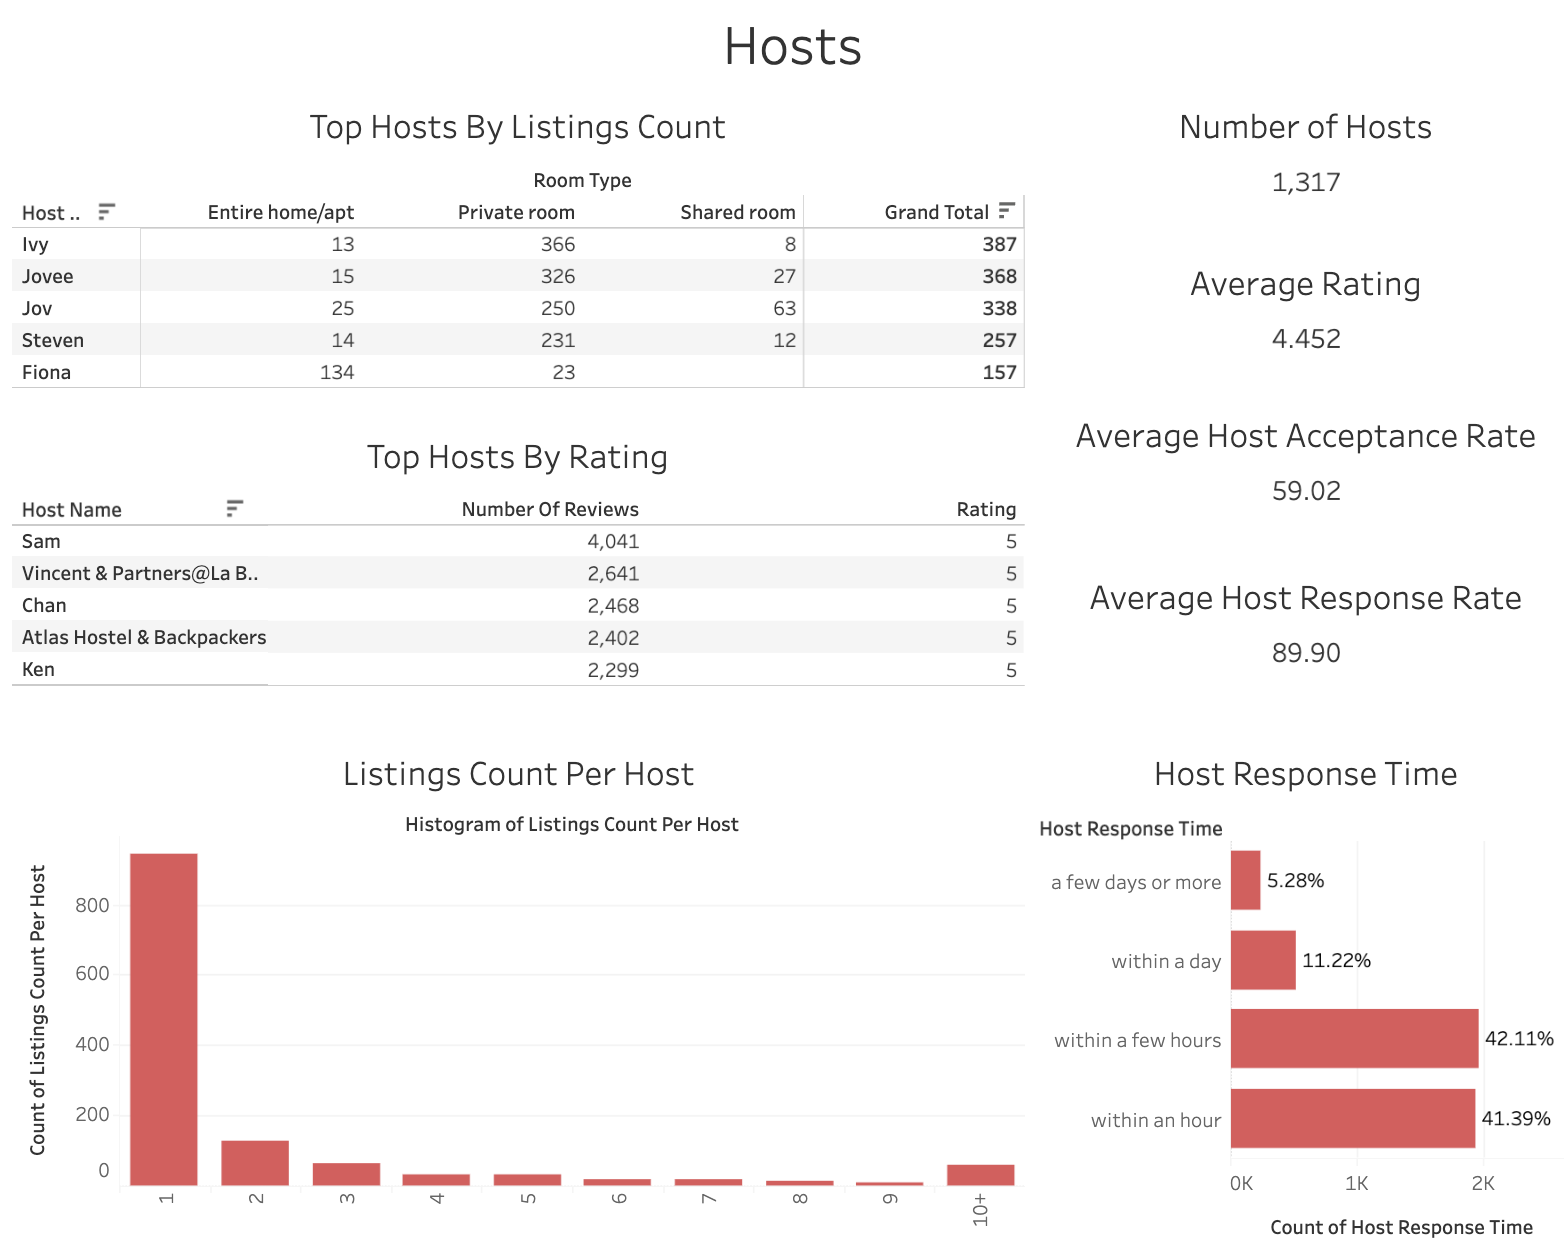

What the dashboard file says about the page in this screenshot:
{"tool":"tableau","page":{"name":"Hosts","canvas":[1000,800],"ordinal":0},"visuals":[{"type":"title","box":[8,8,984,53]},{"type":"worksheet","title":"Top Hosts By Listings Count","mark":"Automatic","rows":["host_name"],"cols":["room_type"],"box":[8,61,641,207]},{"type":"worksheet","title":"Number of Hosts","mark":"Automatic","box":[649,61,343,98]},{"type":"worksheet","title":"Average Rating","mark":"Automatic","box":[649,159,343,95]},{"type":"worksheet","title":"Average Host Acceptance Rate","mark":"Automatic","box":[649,254,343,101]},{"type":"worksheet","title":"Top Hosts By Rating","mark":"Automatic","rows":["host_name"],"box":[8,268,641,198]},{"type":"worksheet","title":"Average Host Response Rate","mark":"Automatic","box":[649,355,343,111]},{"type":"worksheet","title":"Listings Count Per Host","mark":"Automatic","rows":["Calculation_4270397657813553160"],"cols":["Calculation_4270397657816264714"],"box":[8,466,641,326]},{"type":"worksheet","title":"Host Response Time","mark":"Automatic","rows":["host_response_time"],"cols":["host_response_time"],"box":[649,466,343,326]}]}

Visuals, with their boxes in screenshot pixels (x1, y1, x2, y2), scaled from the page's 1000x800 canvas onto the 1564x1248 screenshot:
title: bbox=[13, 12, 1551, 95]
"Top Hosts By Listings Count" worksheet: bbox=[13, 95, 1015, 418]
"Number of Hosts" worksheet: bbox=[1015, 95, 1551, 248]
"Average Rating" worksheet: bbox=[1015, 248, 1551, 396]
"Average Host Acceptance Rate" worksheet: bbox=[1015, 396, 1551, 554]
"Top Hosts By Rating" worksheet: bbox=[13, 418, 1015, 727]
"Average Host Response Rate" worksheet: bbox=[1015, 554, 1551, 727]
"Listings Count Per Host" worksheet: bbox=[13, 727, 1015, 1236]
"Host Response Time" worksheet: bbox=[1015, 727, 1551, 1236]
